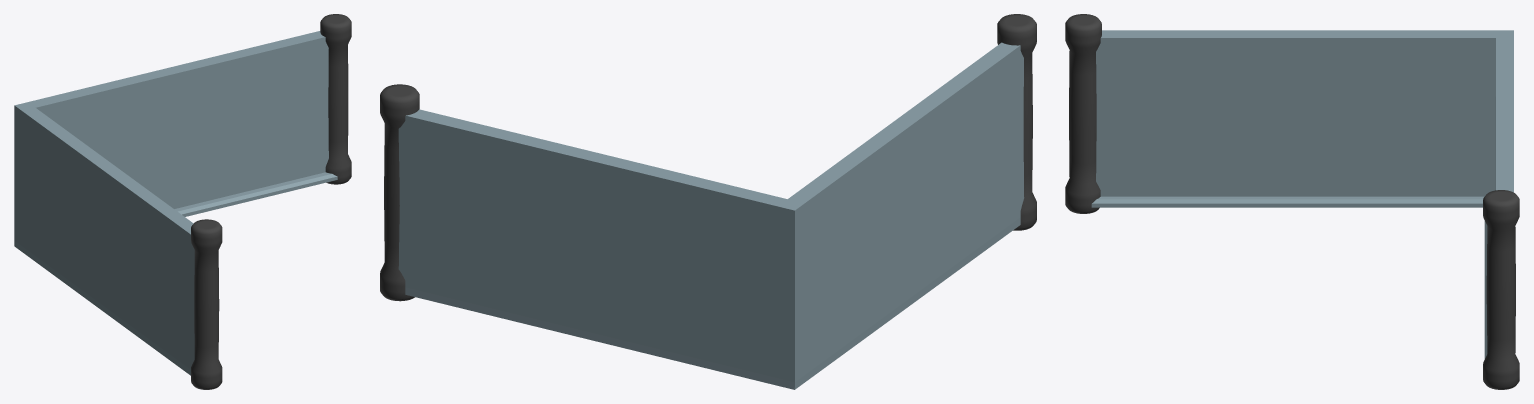
Rendered from big wall corner 2 pillars.fbx.
3 renders of one model, left to right at view 1: azimuth 30°, elevation 25°; view 2: azimuth 150°, elevation 25°; view 3: azimuth 270°, elevation 25°, orthographic. The views are drawn at different scales.
Visible parts, largest first — view 1: Corner_wall_big_2_pillar; view 2: Corner_wall_big_2_pillar; view 3: Corner_wall_big_2_pillar.
Part boxes in pixels (x1,y1,x2,y2): Corner_wall_big_2_pillar: (14,14,351,389); Corner_wall_big_2_pillar: (380,14,1036,389); Corner_wall_big_2_pillar: (1065,14,1519,389).
Bounding box in the file's own units: 1937 × 881 × 1943.
